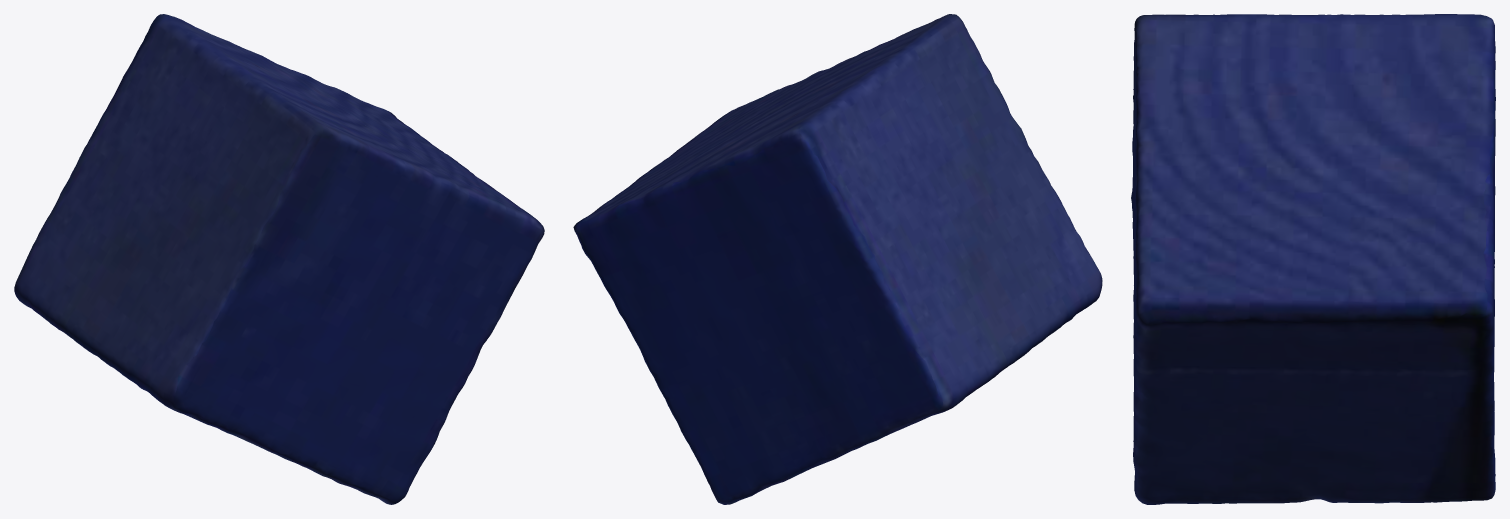
The model's file is ddg-ycb_070-b_colored_wood_blocks.glb.
3 views of the same model, side by side, from view 1: azimuth 30°, elevation 25°; view 2: azimuth 150°, elevation 25°; view 3: azimuth 270°, elevation 25° (orthographic). The views are drawn at different scales.
Parts seen in each view (by area): view 1: textured(Clone); view 2: textured(Clone); view 3: textured(Clone).
Boxes of the visible parts, x1,y1,x2,y2 form: textured(Clone): (14,14,544,504); textured(Clone): (573,14,1102,504); textured(Clone): (1131,14,1495,504).
Bounding box in the file's own units: 1.59 × 1.59 × 1.17.
Materials: 1 (1 with a texture image).
